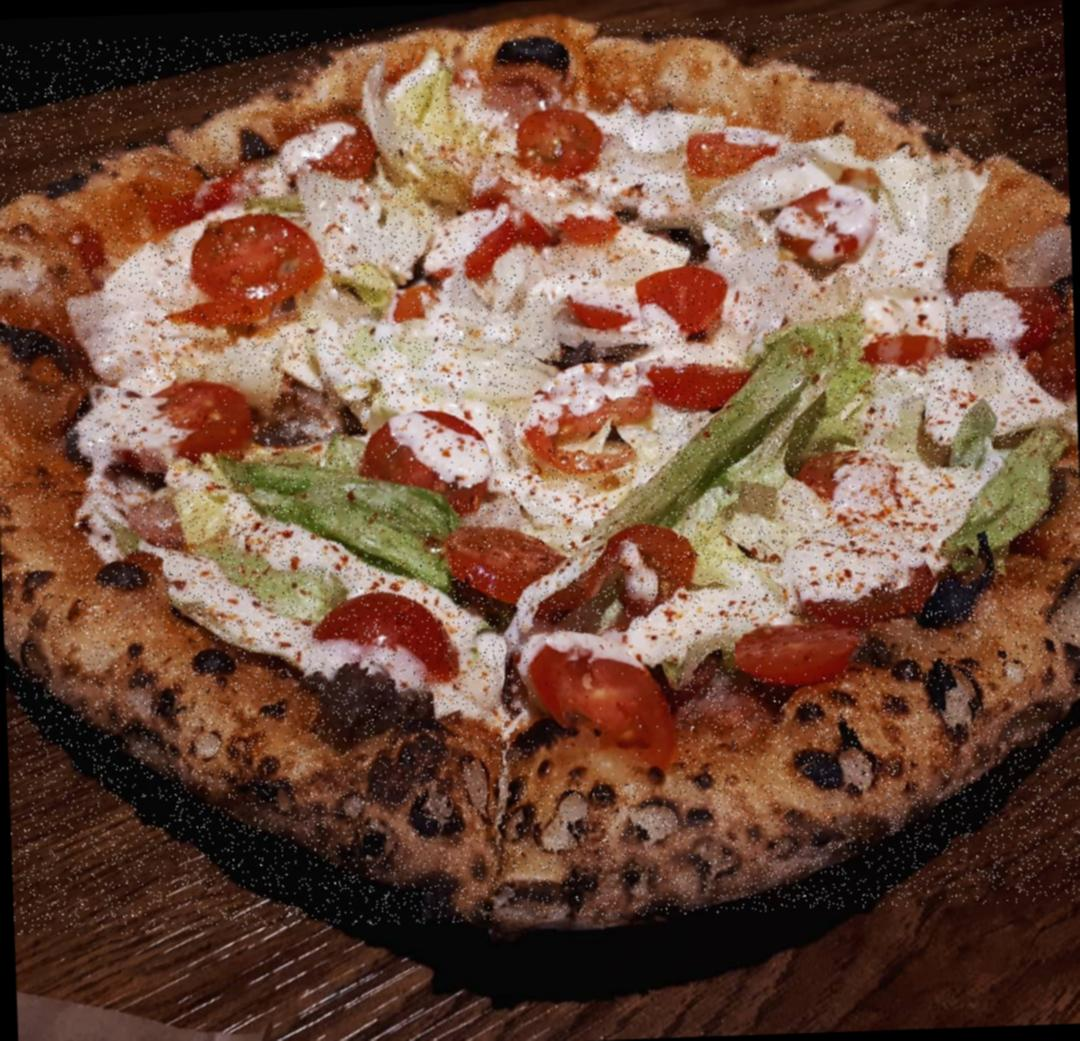Pizza: (0, 4, 1080, 936)
Tomatoes: (529, 630, 677, 784), (451, 515, 684, 608), (424, 185, 636, 279), (529, 361, 660, 468), (190, 215, 324, 312), (366, 403, 490, 505), (324, 590, 456, 684), (777, 162, 878, 264), (140, 379, 263, 452), (945, 286, 1060, 358), (734, 615, 858, 679), (296, 109, 384, 188), (644, 348, 752, 402), (542, 280, 640, 339), (637, 264, 732, 324), (862, 289, 940, 361), (519, 104, 600, 166), (800, 584, 930, 622), (374, 264, 440, 334), (800, 448, 896, 496), (688, 124, 771, 170)
